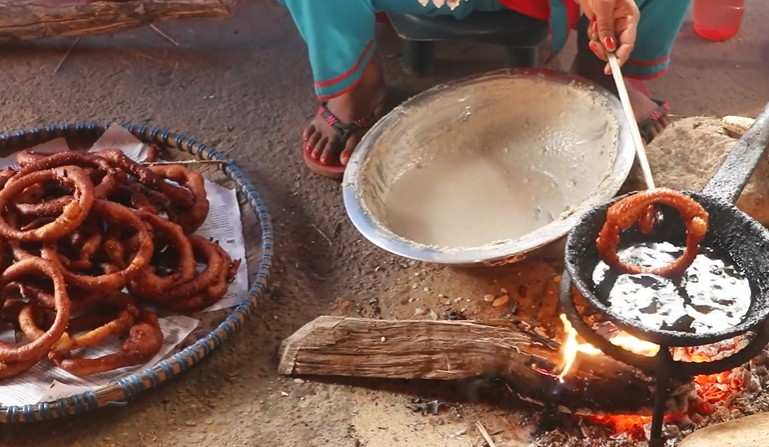sel_roti: (591, 190, 709, 281), (0, 166, 91, 245), (0, 257, 67, 362), (101, 197, 151, 289), (62, 305, 141, 350), (160, 216, 199, 288)
